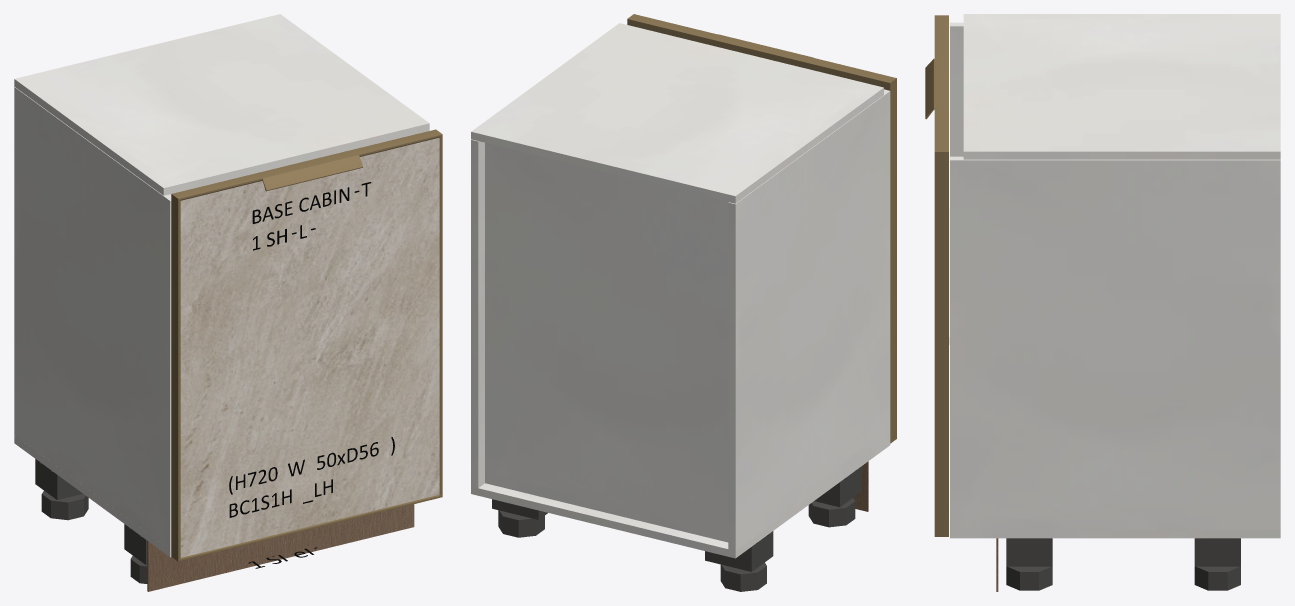
The model's file is BC-SH-TTS-ST-1SX-LHS-XXX-550-720-560-15.glb.
3 views of the same model, side by side, from view 1: azimuth 30°, elevation 25°; view 2: azimuth 150°, elevation 25°; view 3: azimuth 270°, elevation 25° (orthographic). The views are drawn at different scales.
Parts seen in each view (by area): view 1: Object_node_12, TP_node, TP_node_1, Object_node_14, Extrusion_node_4, ExtrSplGeo, Extrusion_node, Extrusion_node_2, 2D text_node, TP, Foot, Extrusion_node_3 (+3 smaller); view 2: TP_node_3, TP_node, TP_node_1, TP, TP_node_0, Extrusion_node_4, Extrusion_node, ExtrSplGeo, Plate, Foot, Foot_node_0, Foot_node (+1 smaller); view 3: TP_node_0, TP_node_1, Extrusion_node_2, TP, TP_node, Plate_node, Plate_node_1, Extrusion_node, ExtrSplGeo, Foot_node_1, Foot_node.
Part boxes in pixels (bbox=[...]): Object_node_12: bbox=[180, 137, 439, 557]; TP_node: bbox=[14, 87, 171, 549]; TP_node_1: bbox=[14, 14, 429, 195]; Object_node_14: bbox=[147, 504, 414, 591]; Extrusion_node_4: bbox=[171, 194, 180, 561]; ExtrSplGeo: bbox=[255, 150, 362, 191]; Extrusion_node: bbox=[172, 129, 442, 200]; Extrusion_node_2: bbox=[439, 135, 442, 496]; 2D text_node: bbox=[229, 437, 394, 517]; TP: bbox=[14, 436, 171, 557]; Foot: bbox=[41, 491, 88, 520]; Extrusion_node_3: bbox=[178, 494, 442, 561]; TP_node_3: bbox=[485, 142, 728, 542]; TP_node: bbox=[728, 89, 890, 550]; TP_node_1: bbox=[471, 23, 883, 203]; TP: bbox=[471, 438, 890, 558]; TP_node_0: bbox=[471, 139, 484, 487]; Extrusion_node_4: bbox=[884, 78, 896, 443]; Extrusion_node: bbox=[627, 14, 896, 87]; ExtrSplGeo: bbox=[710, 34, 813, 68]; Plate: bbox=[705, 531, 773, 571]; Foot: bbox=[720, 562, 766, 591]; Foot_node_0: bbox=[808, 498, 855, 527]; Foot_node: bbox=[498, 510, 544, 537]; TP_node_0: bbox=[950, 156, 1280, 530]; TP_node_1: bbox=[963, 14, 1280, 159]; Extrusion_node_2: bbox=[934, 152, 948, 536]; TP: bbox=[950, 530, 1280, 538]; TP_node: bbox=[950, 22, 963, 156]; Plate_node: bbox=[1194, 538, 1240, 566]; Plate_node_1: bbox=[1006, 538, 1052, 566]; Extrusion_node: bbox=[934, 15, 948, 151]; ExtrSplGeo: bbox=[925, 58, 948, 119]; Foot_node_1: bbox=[1006, 566, 1052, 590]; Foot_node: bbox=[1194, 566, 1240, 590].
Size of what is drawn, in the model's own units: 0.55 by 0.82 by 0.6.
6 materials, 3 textured.
